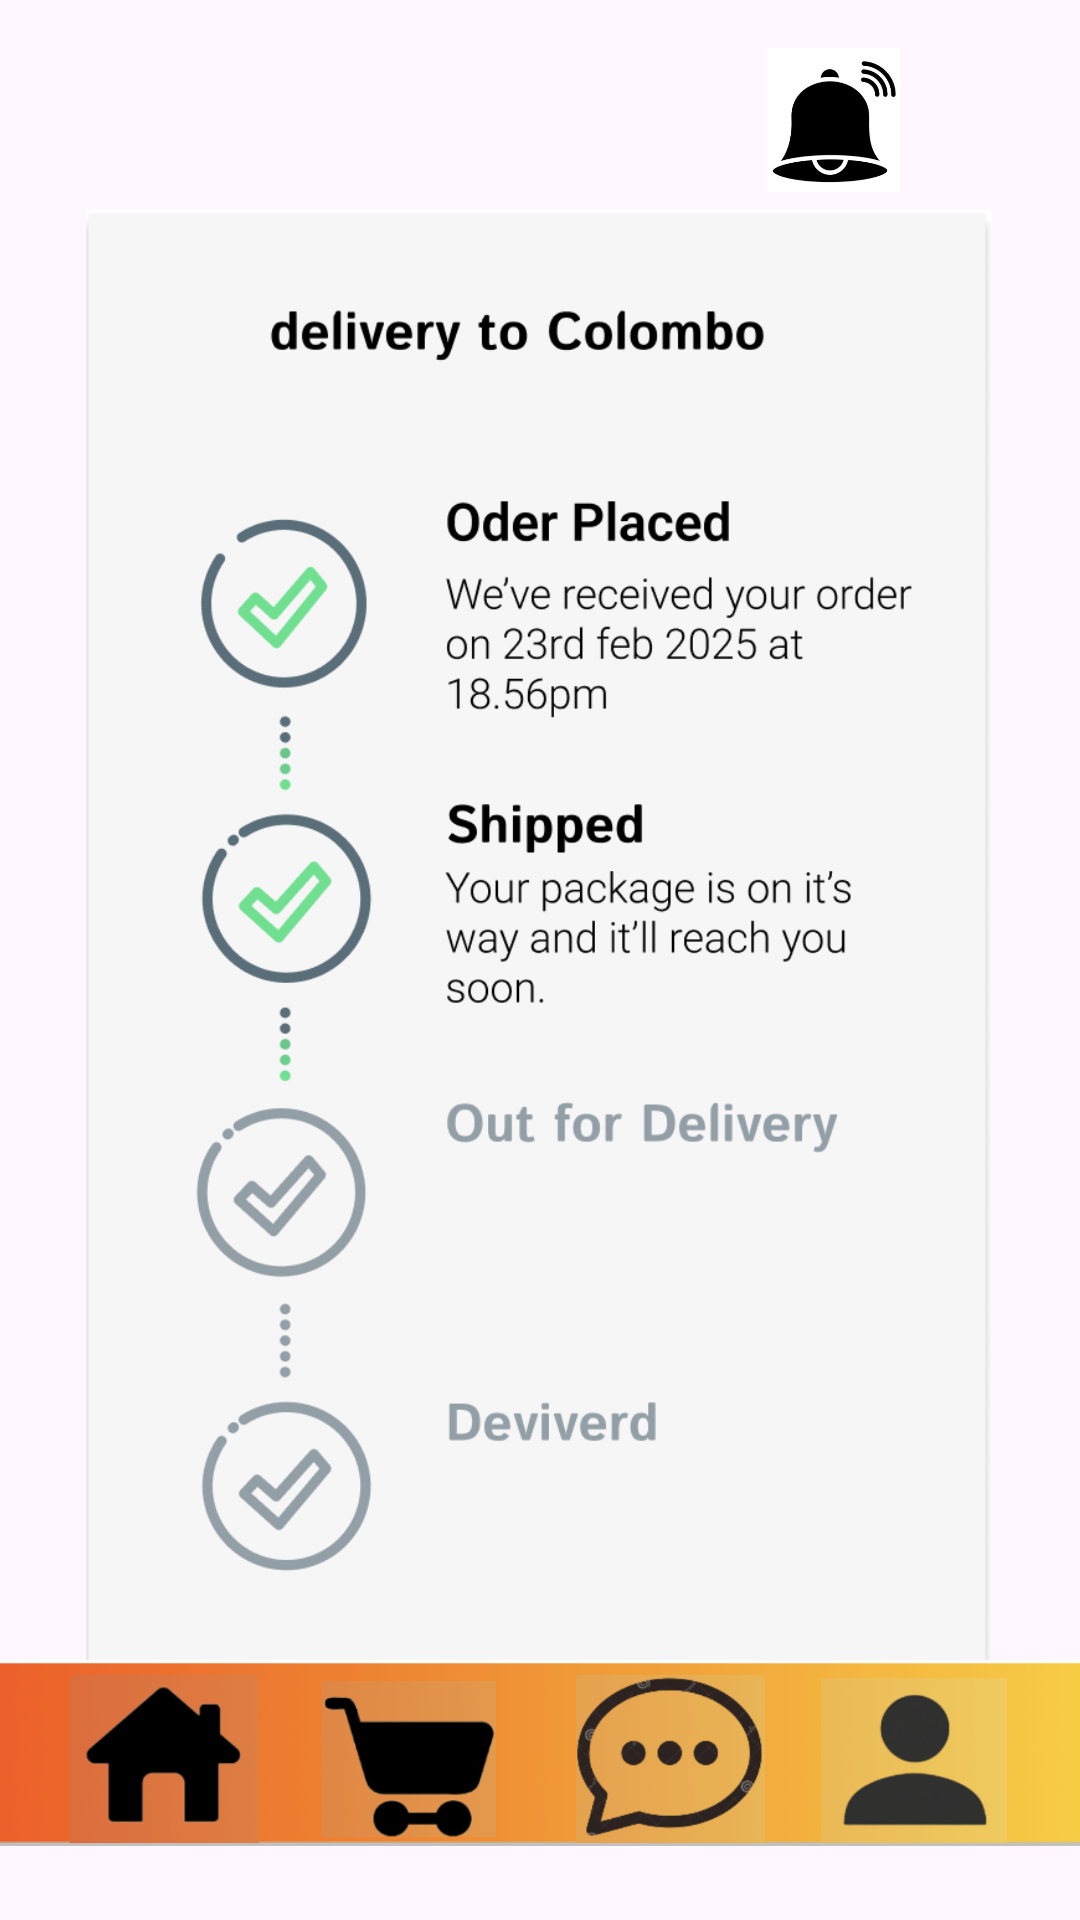

Where to tap for icons on this 1080w x 1920h app screen, as point (x, y):
go to account page: point (914, 1760)
go to cart page: point (384, 1759)
go to chat page: point (670, 1759)
go to home page: point (164, 1759)
go to notification page: point (834, 121)
